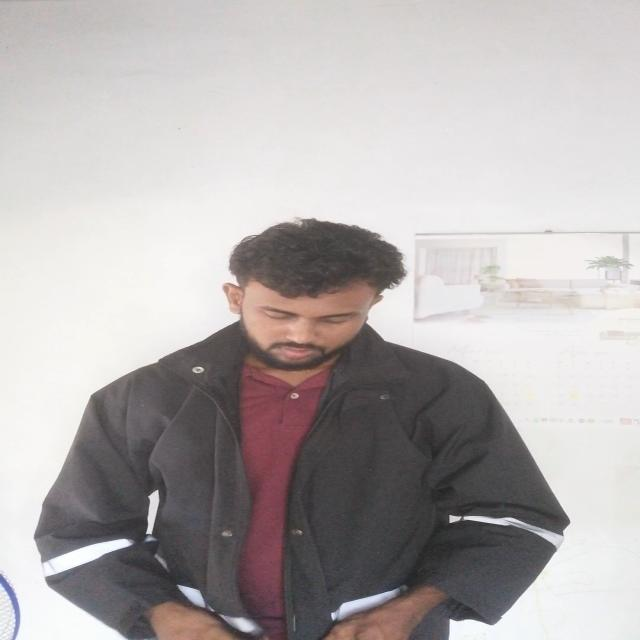Jacket_Wearer: (28, 298, 570, 640)
